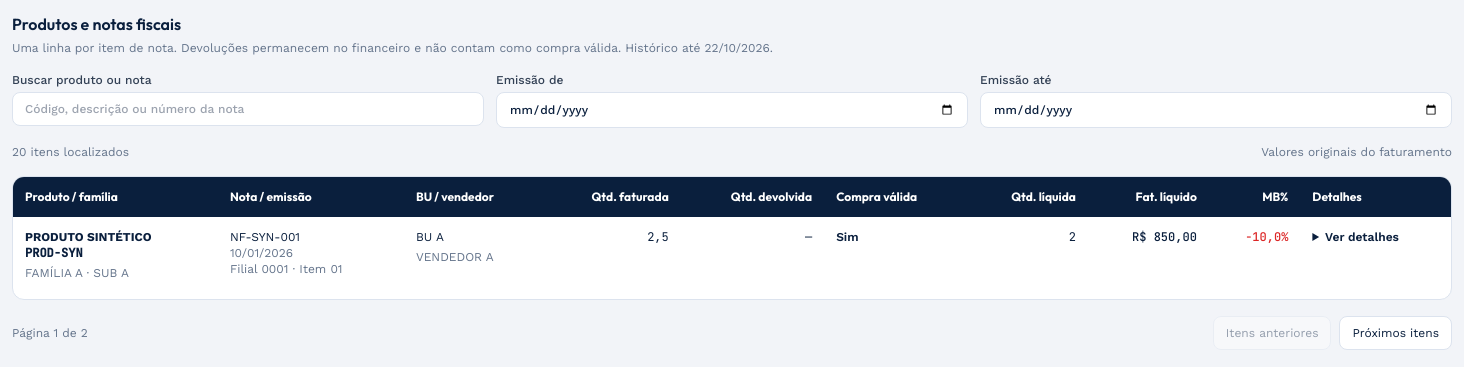
Exploração do cliente › mantém período invertido local e desabilita a consulta
Type "2026-02-01" into the date field labelled "Emissão de" at (732, 110), box [496,92,968,128]
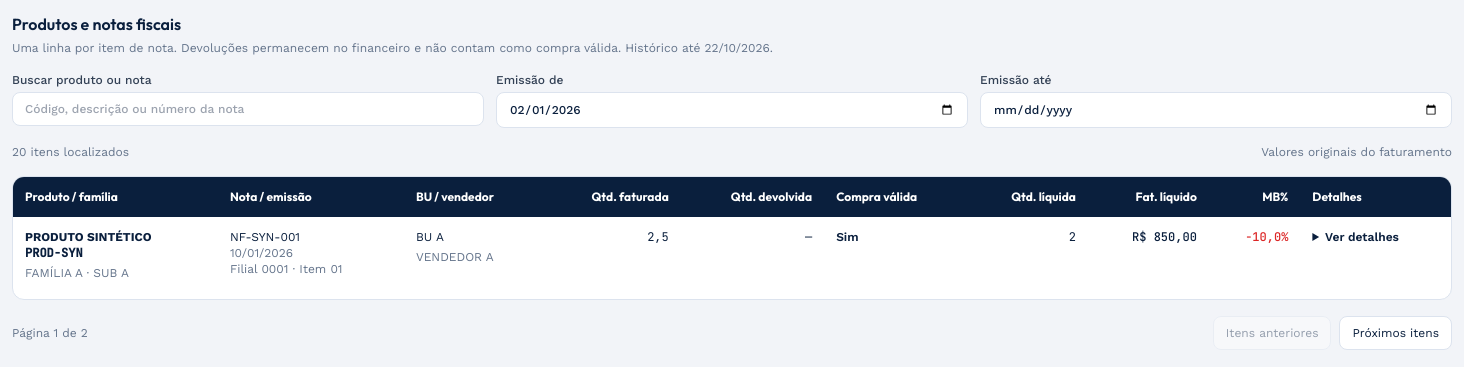
Type "2026-01-01" into the date field labelled "Emissão até" at (1216, 110), box [980,92,1452,128]
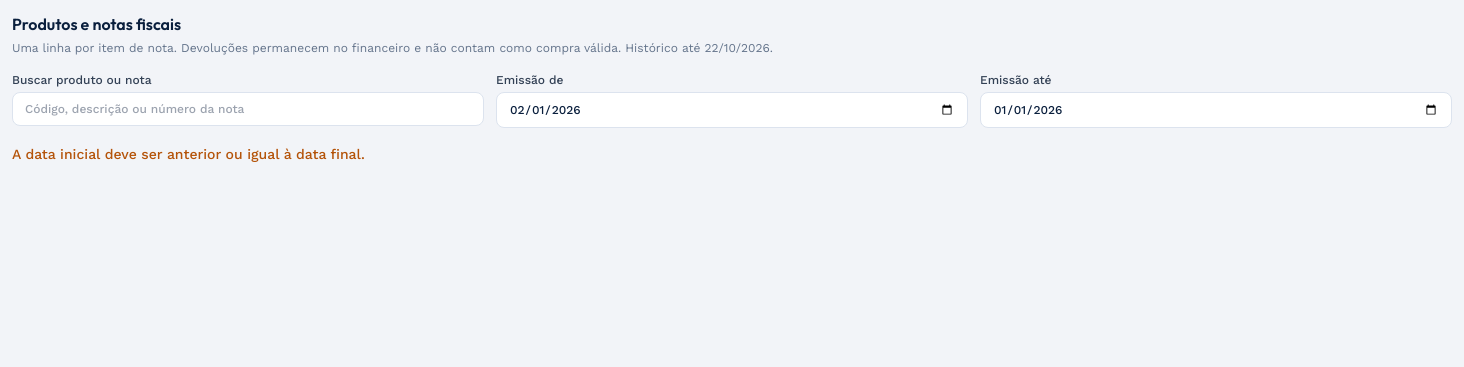
Result: the message shows "A data inicial" at [12,146,365,162]
